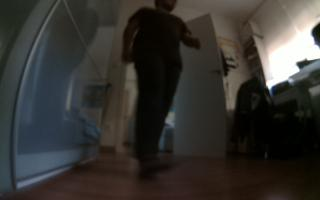person: (115, 1, 207, 183)
